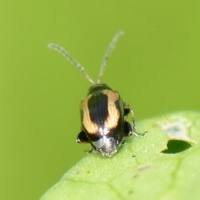insect: (48, 31, 143, 156)
